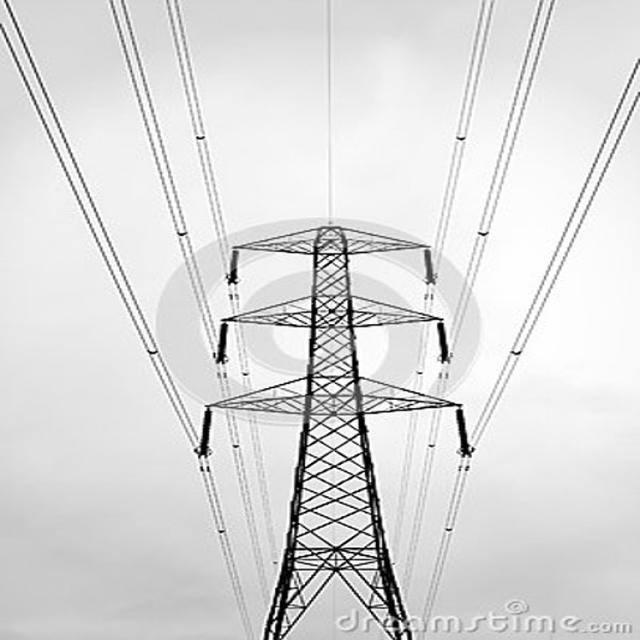non-critical vegetation: (198, 213, 483, 561)
